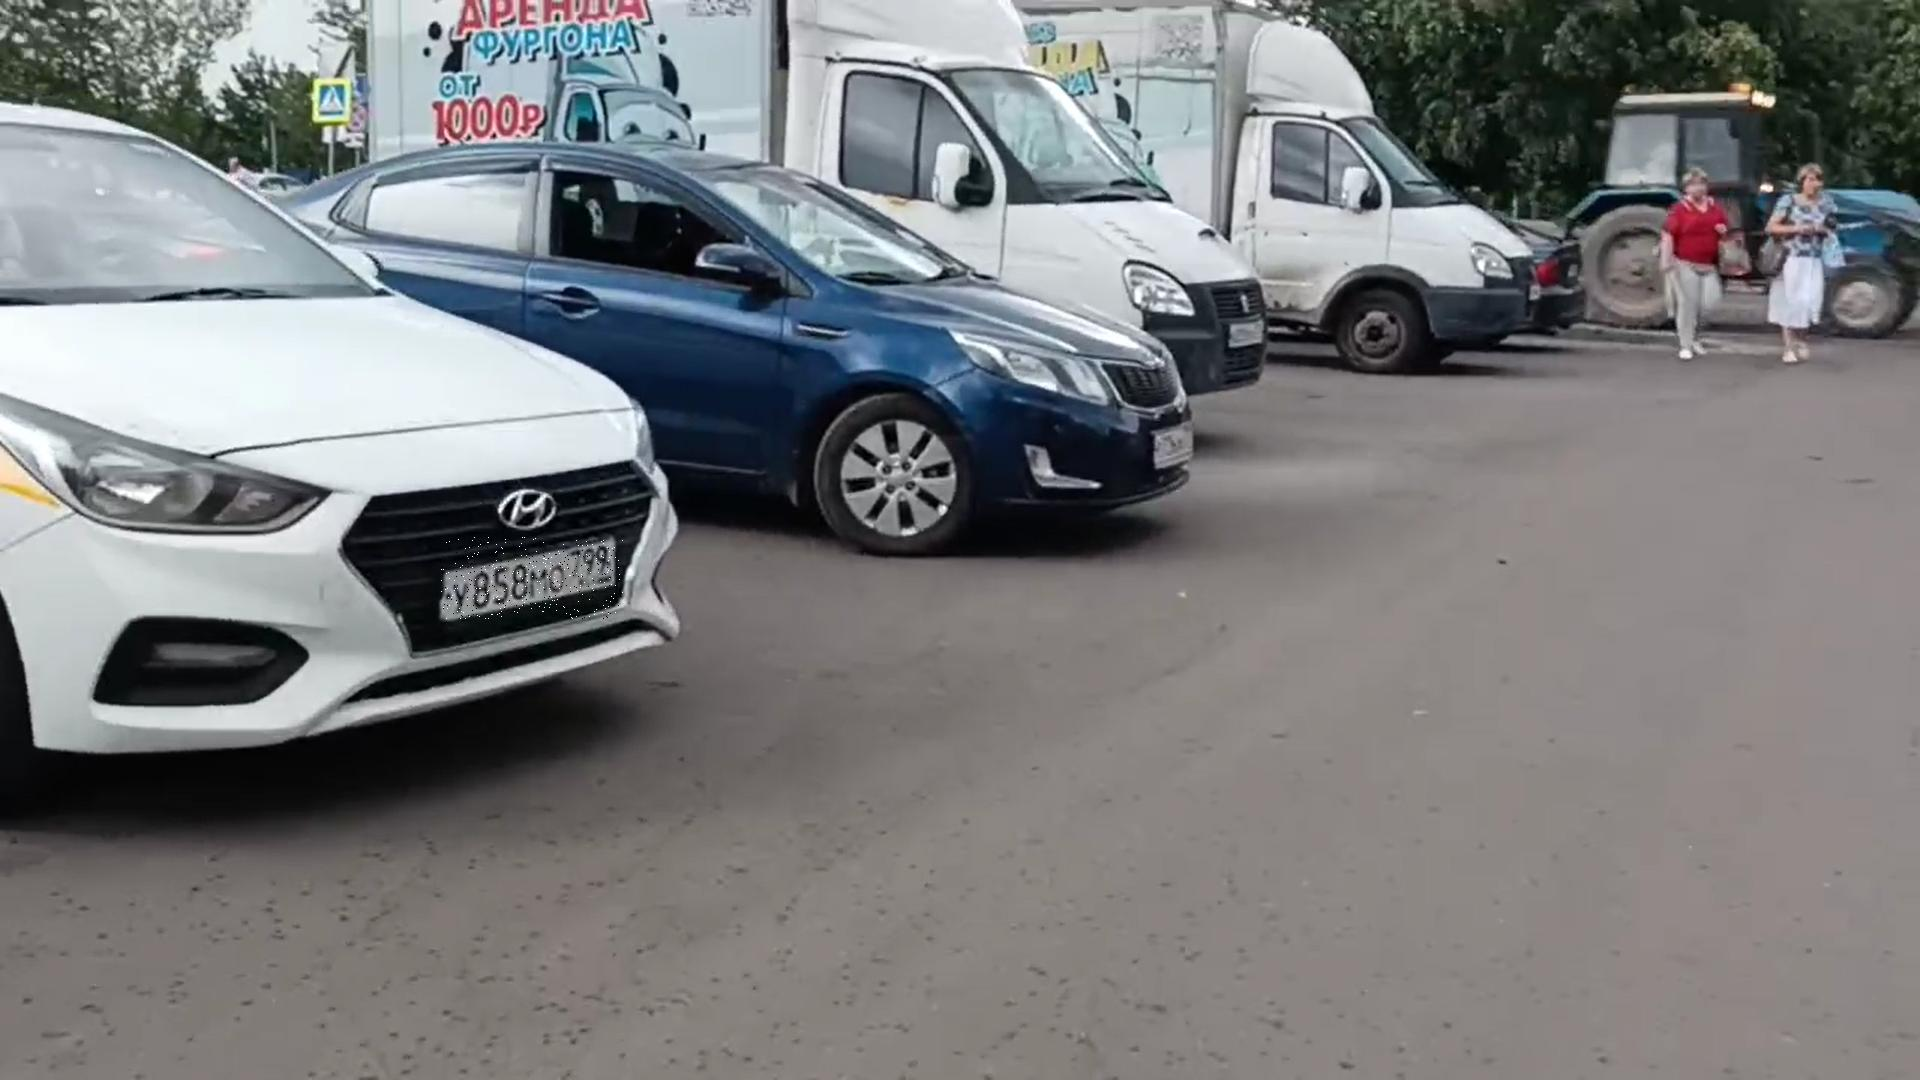plate: (442, 538, 624, 620)
